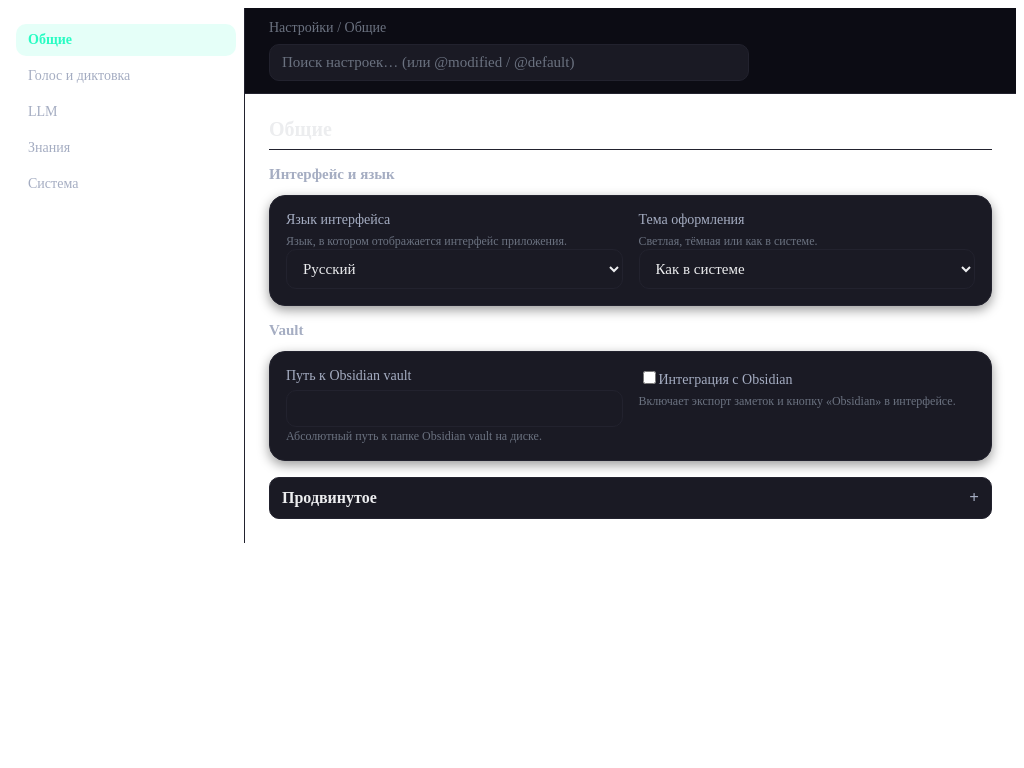
Settings — store-driven › renders models in dropdown when LLM category active
The width and height of the screenshot is (1024, 768).
Step 1. Click the button with test id "settings-sidebar-llm" → [126, 112], box [16, 96, 236, 128]
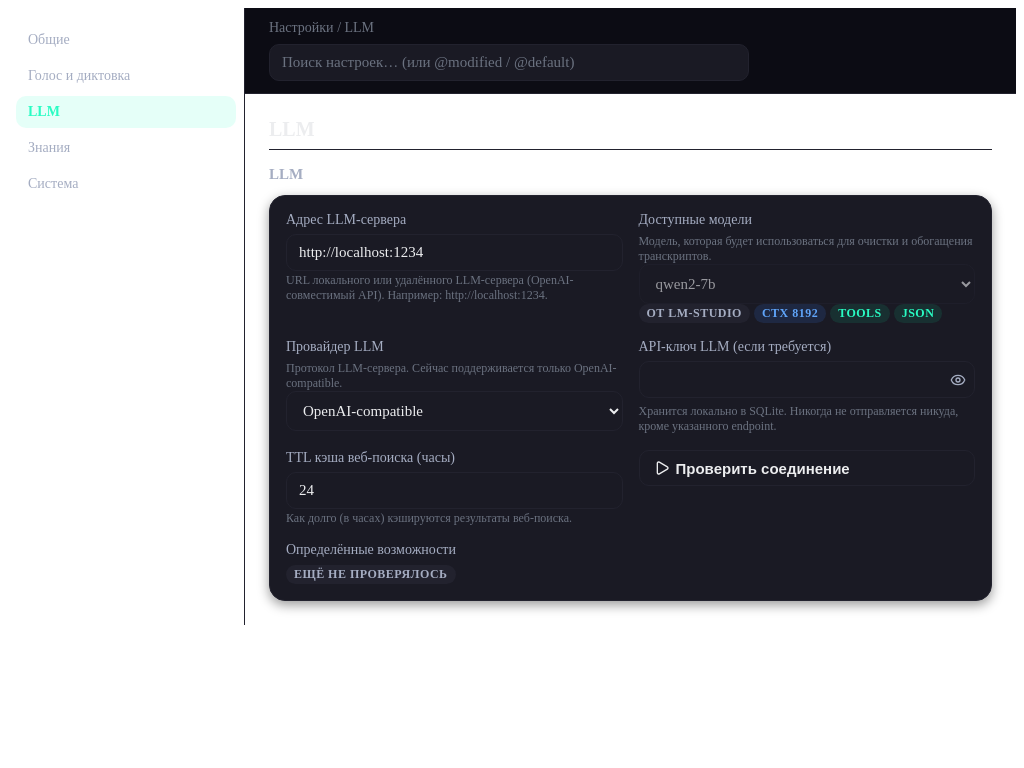
Expected: the dropdown with test id "settings-llm-model-select" is shown, [638, 264, 975, 304]
